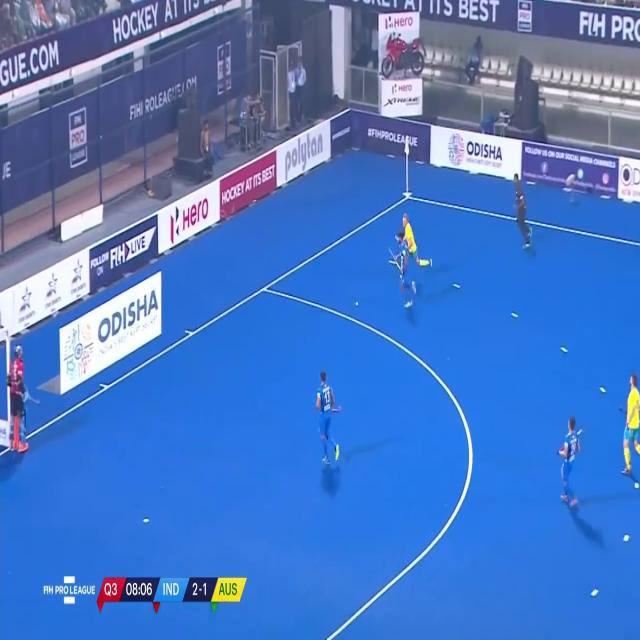ball: (351, 297, 362, 310)
